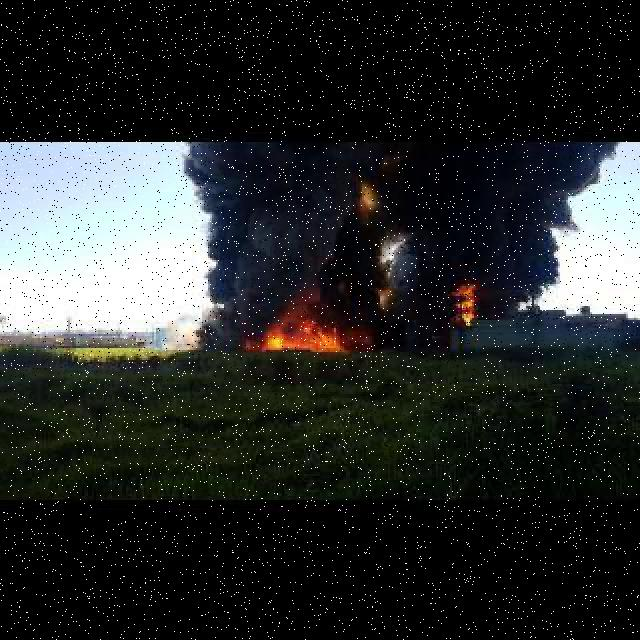fire: (259, 317, 353, 355), (448, 282, 482, 328)
smoke: (187, 142, 614, 356)
